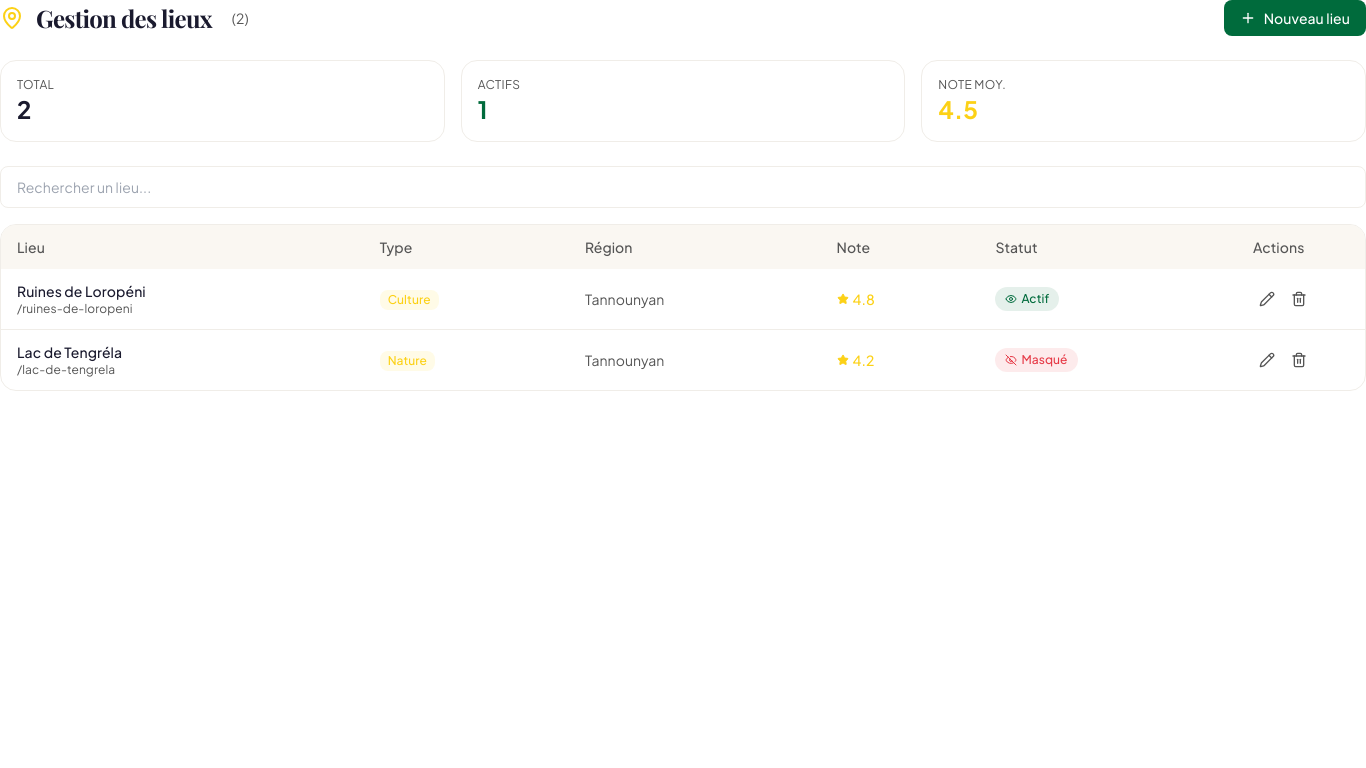
Test: AdminLieuxPage › shows delete confirmation dialog
This screenshot has width=1366, height=768.
Expected: the text "Ruines de Loropéni" is shown, top-left (17, 282), bottom-right (146, 300)
Click the button titled "Supprimer" in the row of "Ruines de Loropéni" at (1299, 299), box top-left (1285, 285), bottom-right (1313, 313)
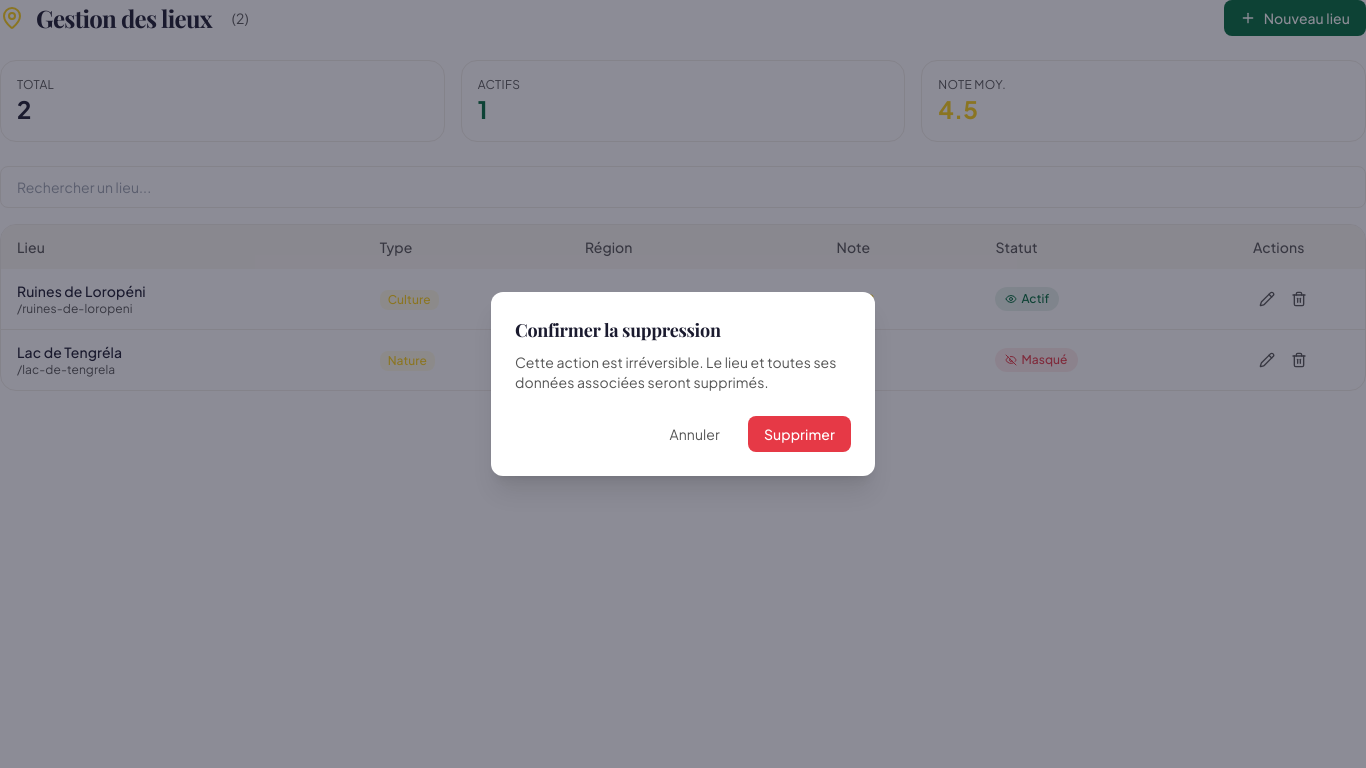
Expected: the heading "Confirmer la suppression" is shown, top-left (515, 318), bottom-right (721, 342)
